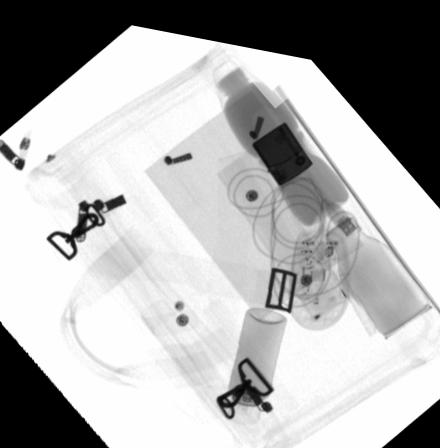Lighter: (251, 111, 312, 175)
Sprayer: (226, 297, 286, 415)
